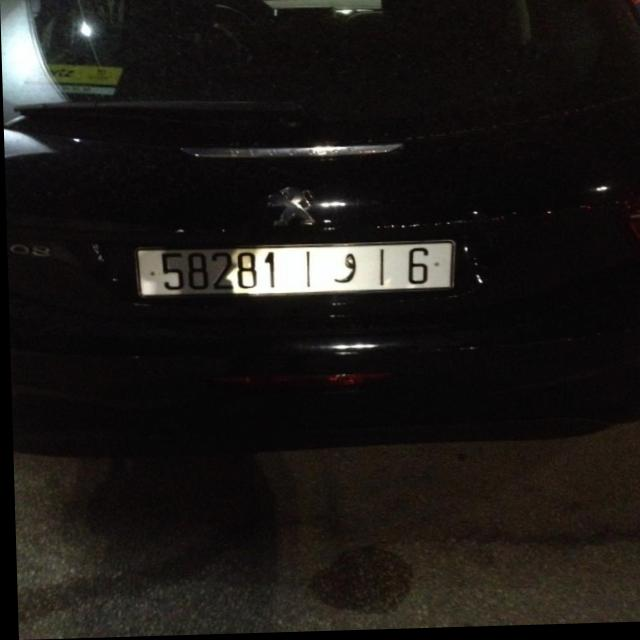License-Plate: (134, 243, 453, 298)
